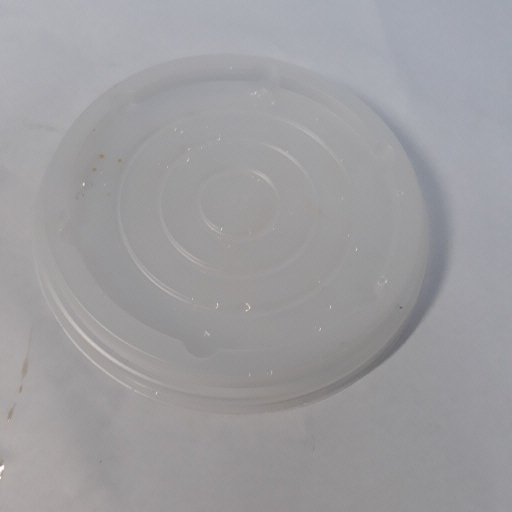Plastic_5: (32, 53, 443, 416)
